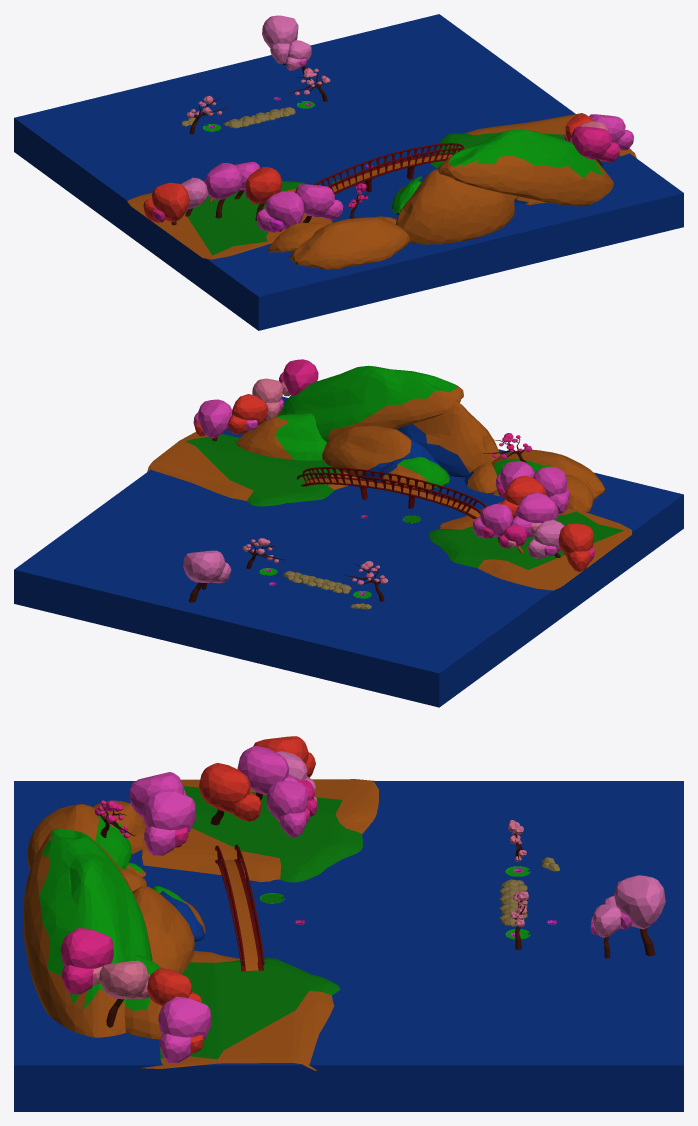
The model's file is Lago_sakura.obj.
3 views of the same model, one above another, from view 1: azimuth 30°, elevation 25°; view 2: azimuth 150°, elevation 25°; view 3: azimuth 270°, elevation 25° (orthographic). The views are drawn at different scales.
Visible parts, largest first — view 1: water_001_Cube.001, Icosphere, Grid_Grid.001, Circle, Grid.001_Grid.000, Icosphere.006_Icosphere.004, Icosphere.014_Icosphere.006, Icosphere.011_Icosphere.009, Icosphere.003_Icosphere.024, Icosphere.001_Icosphere.021, Icosphere.010_Icosphere.008, Icosphere.005_Icosphere.023 (+5 smaller); view 2: water_001_Cube.001, Icosphere, Grid.001_Grid.000, Grid_Grid.001, Circle, Icosphere.001_Icosphere.021, Icosphere.014_Icosphere.006, Icosphere.010_Icosphere.008, Icosphere.007_Icosphere.005, Icosphere.012_Icosphere.010, Icosphere.004_Icosphere.022, Icosphere.011_Icosphere.009 (+7 smaller); view 3: water_001_Cube.001, Icosphere, Grid.001_Grid.000, Grid_Grid.001, Circle, Icosphere.003_Icosphere.024, Icosphere.007_Icosphere.005, Icosphere.011_Icosphere.009, Icosphere.005_Icosphere.023, Icosphere.001_Icosphere.021, Icosphere.009_Icosphere.007, Icosphere.004_Icosphere.022 (+8 smaller).
Boxes of the visible parts, x1=… form: water_001_Cube.001: x1=14, y1=14, x2=683, y2=330; Icosphere: x1=267, y1=129, x2=613, y2=269; Grid_Grid.001: x1=127, y1=181, x2=332, y2=259; Circle: x1=313, y1=143, x2=465, y2=194; Grid.001_Grid.000: x1=430, y1=113, x2=636, y2=168; Icosphere.006_Icosphere.004: x1=256, y1=191, x2=304, y2=232; Icosphere.014_Icosphere.006: x1=143, y1=182, x2=189, y2=225; Icosphere.011_Icosphere.009: x1=571, y1=126, x2=620, y2=162; Icosphere.003_Icosphere.024: x1=295, y1=184, x2=343, y2=222; Icosphere.001_Icosphere.021: x1=262, y1=15, x2=298, y2=64; Icosphere.010_Icosphere.008: x1=206, y1=163, x2=242, y2=218; Icosphere.005_Icosphere.023: x1=245, y1=167, x2=282, y2=220; water_001_Cube.001: x1=14, y1=396, x2=683, y2=707; Icosphere: x1=236, y1=365, x2=604, y2=512; Grid.001_Grid.000: x1=147, y1=432, x2=361, y2=506; Grid_Grid.001: x1=428, y1=501, x2=632, y2=590; Circle: x1=296, y1=467, x2=486, y2=518; Icosphere.001_Icosphere.021: x1=183, y1=550, x2=231, y2=602; Icosphere.014_Icosphere.006: x1=558, y1=523, x2=594, y2=571; Icosphere.010_Icosphere.008: x1=510, y1=492, x2=558, y2=537; Icosphere.007_Icosphere.005: x1=193, y1=399, x2=232, y2=441; Icosphere.012_Icosphere.010: x1=228, y1=394, x2=267, y2=434; Icosphere.004_Icosphere.022: x1=473, y1=504, x2=513, y2=542; Icosphere.011_Icosphere.009: x1=279, y1=359, x2=318, y2=396; water_001_Cube.001: x1=14, y1=781, x2=683, y2=1111; Icosphere: x1=23, y1=800, x2=205, y2=1039; Grid.001_Grid.000: x1=140, y1=951, x2=340, y2=1070; Grid_Grid.001: x1=142, y1=779, x2=378, y2=882; Circle: x1=215, y1=844, x2=264, y2=971; Icosphere.003_Icosphere.024: x1=143, y1=789, x2=195, y2=855; Icosphere.007_Icosphere.005: x1=158, y1=996, x2=211, y2=1062; Icosphere.011_Icosphere.009: x1=60, y1=928, x2=113, y2=994; Icosphere.005_Icosphere.023: x1=199, y1=763, x2=261, y2=825; Icosphere.001_Icosphere.021: x1=603, y1=875, x2=665, y2=956; Icosphere.009_Icosphere.007: x1=99, y1=960, x2=150, y2=1027; Icosphere.004_Icosphere.022: x1=266, y1=780, x2=309, y2=837.
Size of the model in its own units: 105 by 25.62 by 101.
